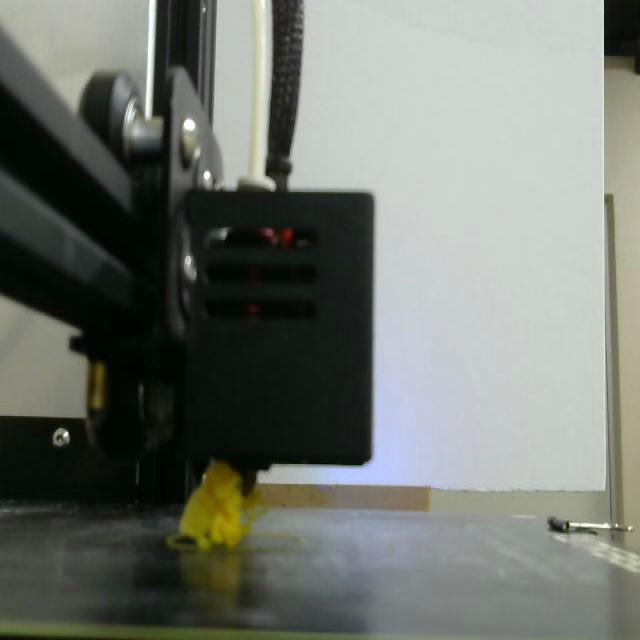spaghetti: (173, 466, 273, 555)
